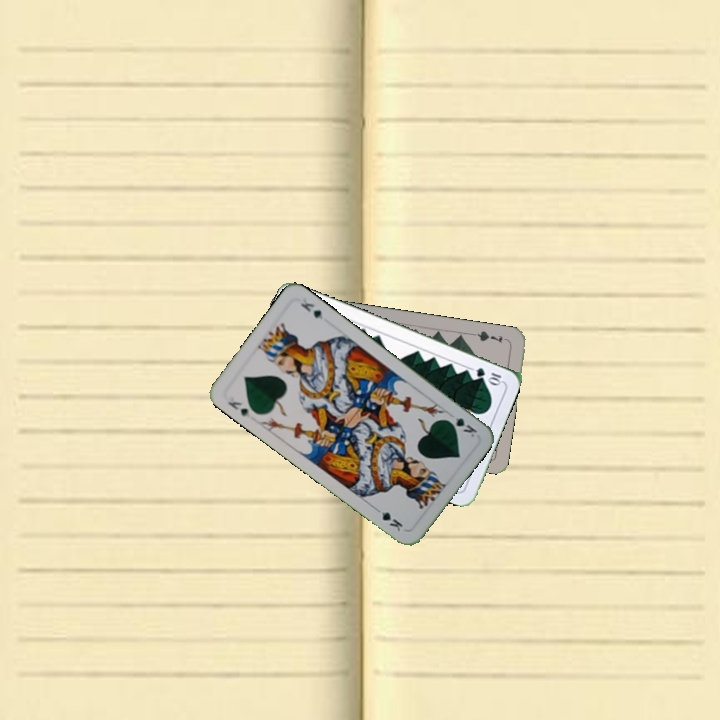G10: (472, 363, 505, 387)
G7: (470, 327, 505, 345)
GK: (442, 413, 480, 440), (223, 397, 253, 420)
